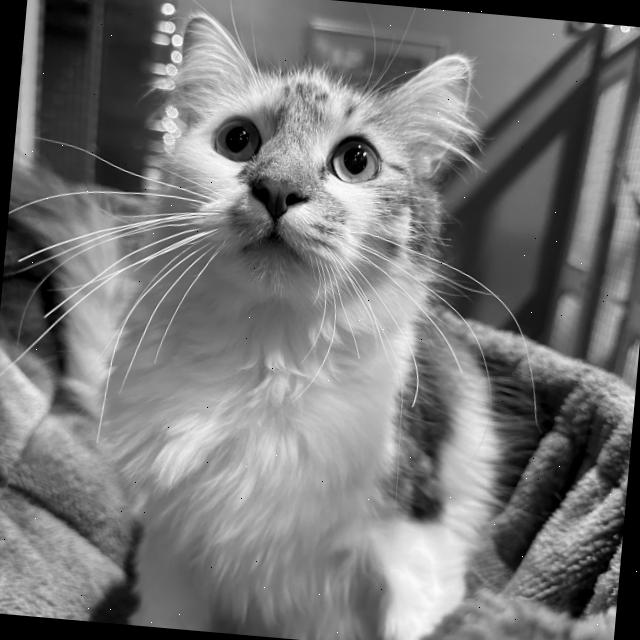maine_coon_cat: (107, 0, 503, 385)
